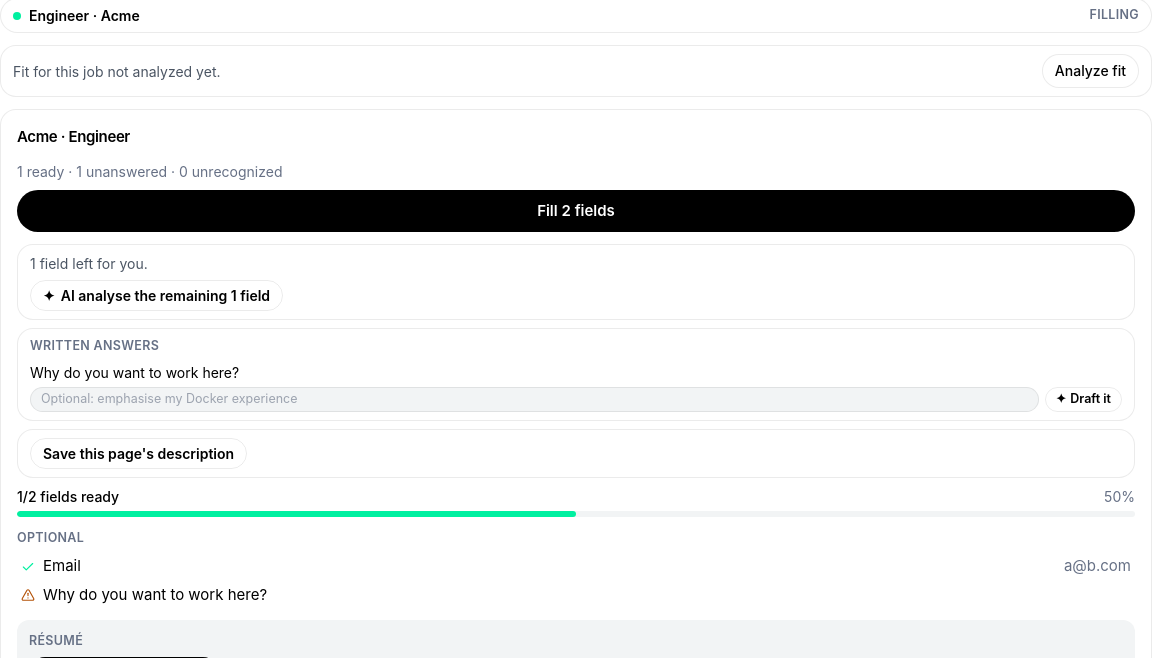
Test case: FillPanel › AI answer memory (accept → persist, deduped) › per-field refine › writes the refined text back through the ordinary fill path
Click the button "Fill 2 fields" at (576, 211), box [17,190,1135,232]
(page scrolled)
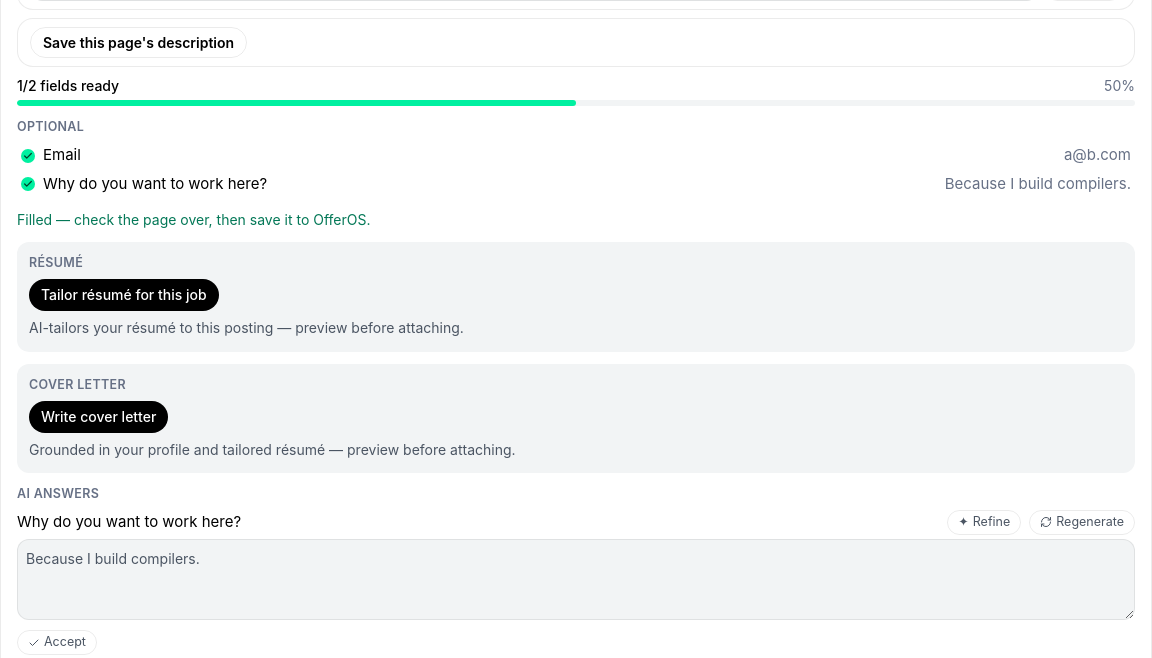
Click the button "✦ Refine" at (984, 522), box [947,510,1021,535]
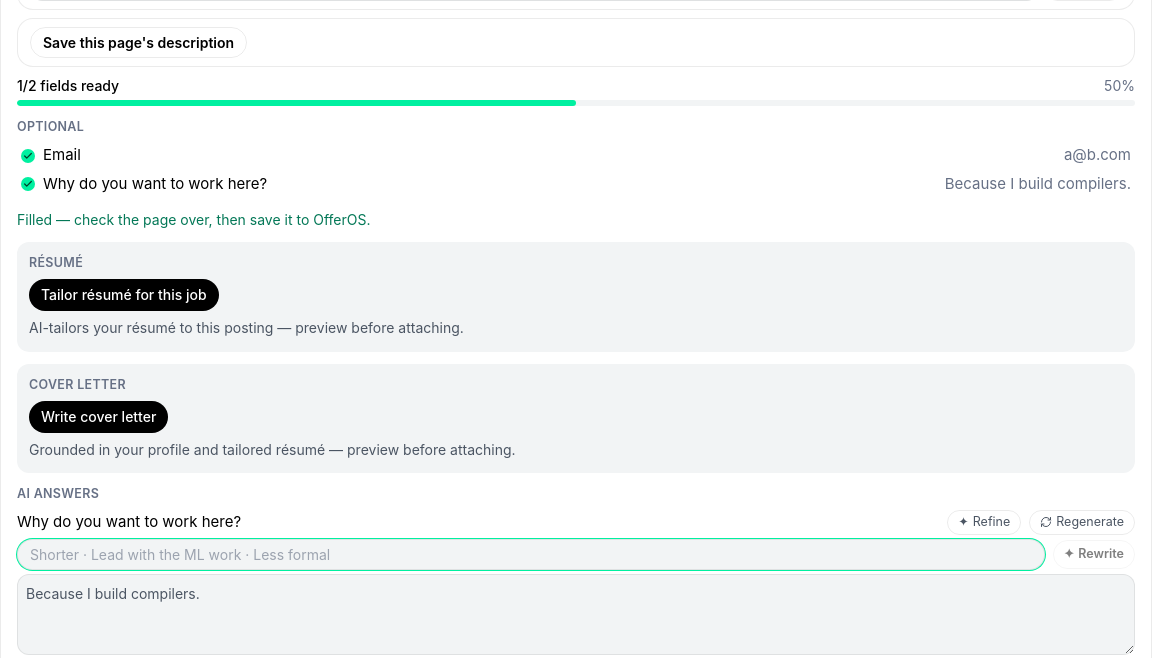
Type "shorter" into the field named "How should this answer change" at (531, 554), box [17,539,1045,570]
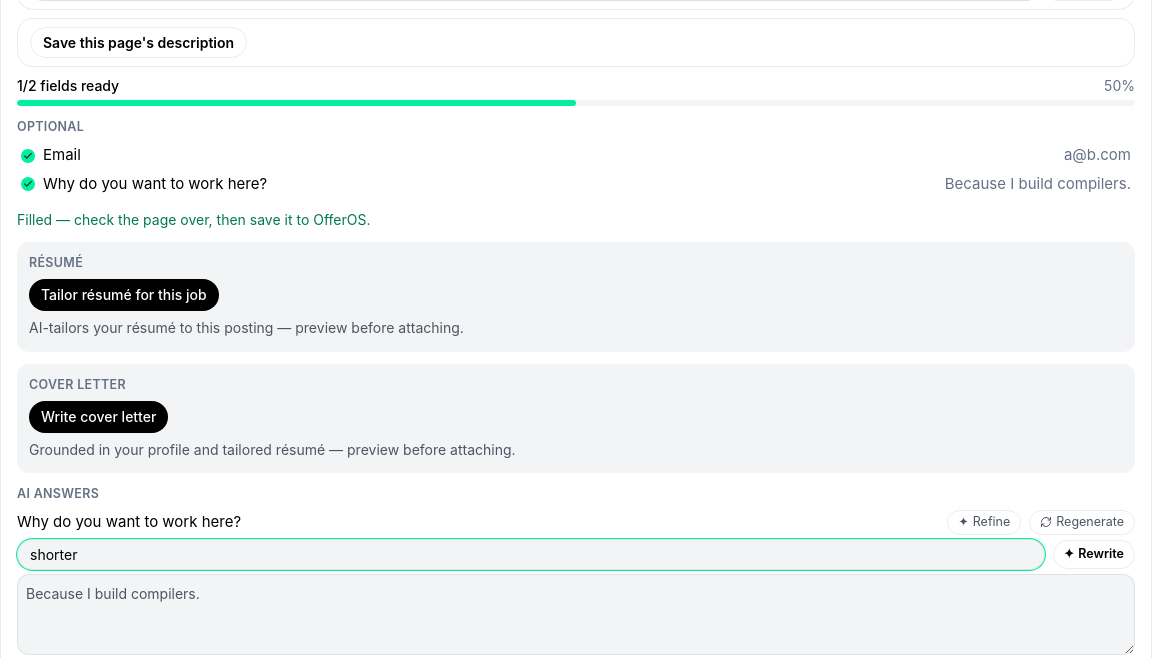
Click the button "✦ Rewrite" at (1094, 554), box [1053,540,1135,569]
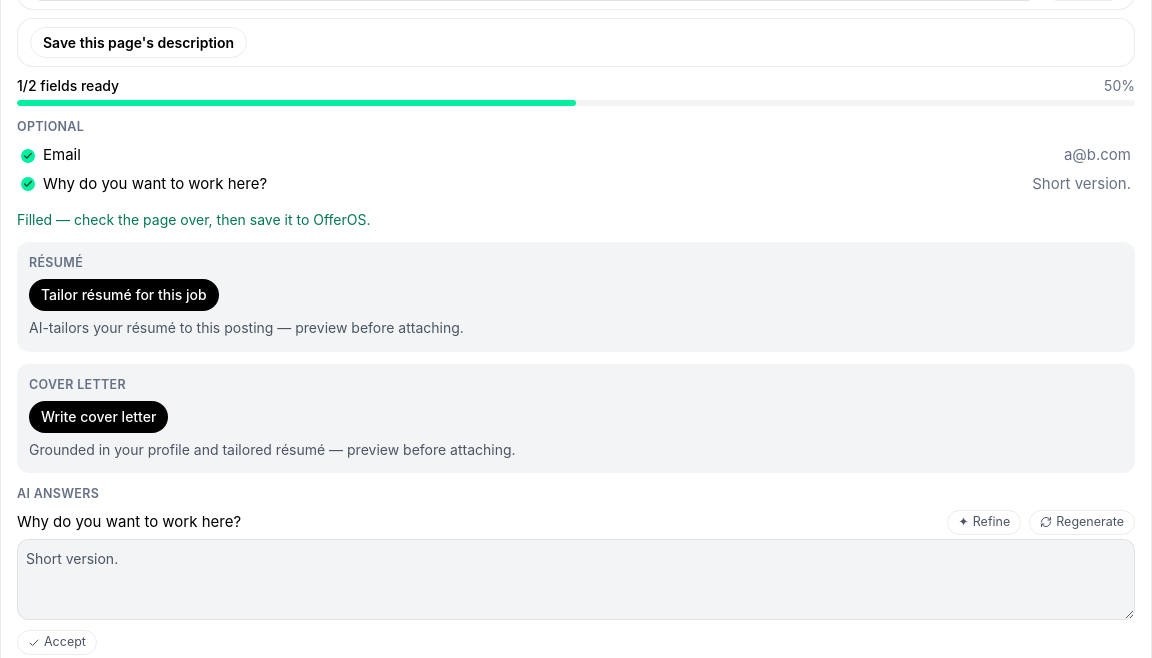
Now the text box showing "Short version." is shown, box [17,539,1135,620]
